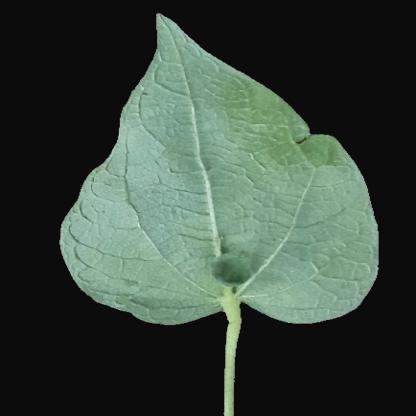curl_stage2: (125, 82, 255, 234), (289, 202, 371, 316), (97, 235, 183, 301), (256, 135, 342, 201), (62, 194, 134, 240)
leaf_enation: (190, 233, 281, 301)
